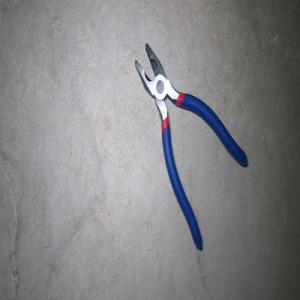Pliers: (134, 42, 247, 250)
